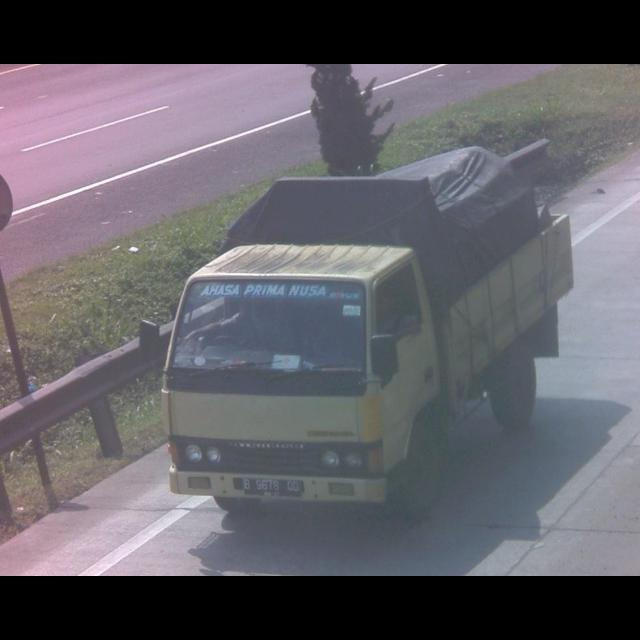plate: (242, 476, 306, 501)
